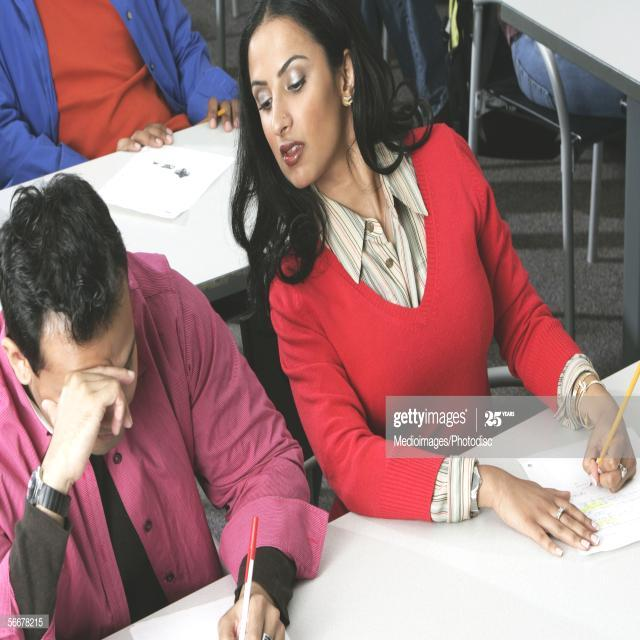cheating: (225, 2, 613, 396)
good: (0, 166, 326, 640)
